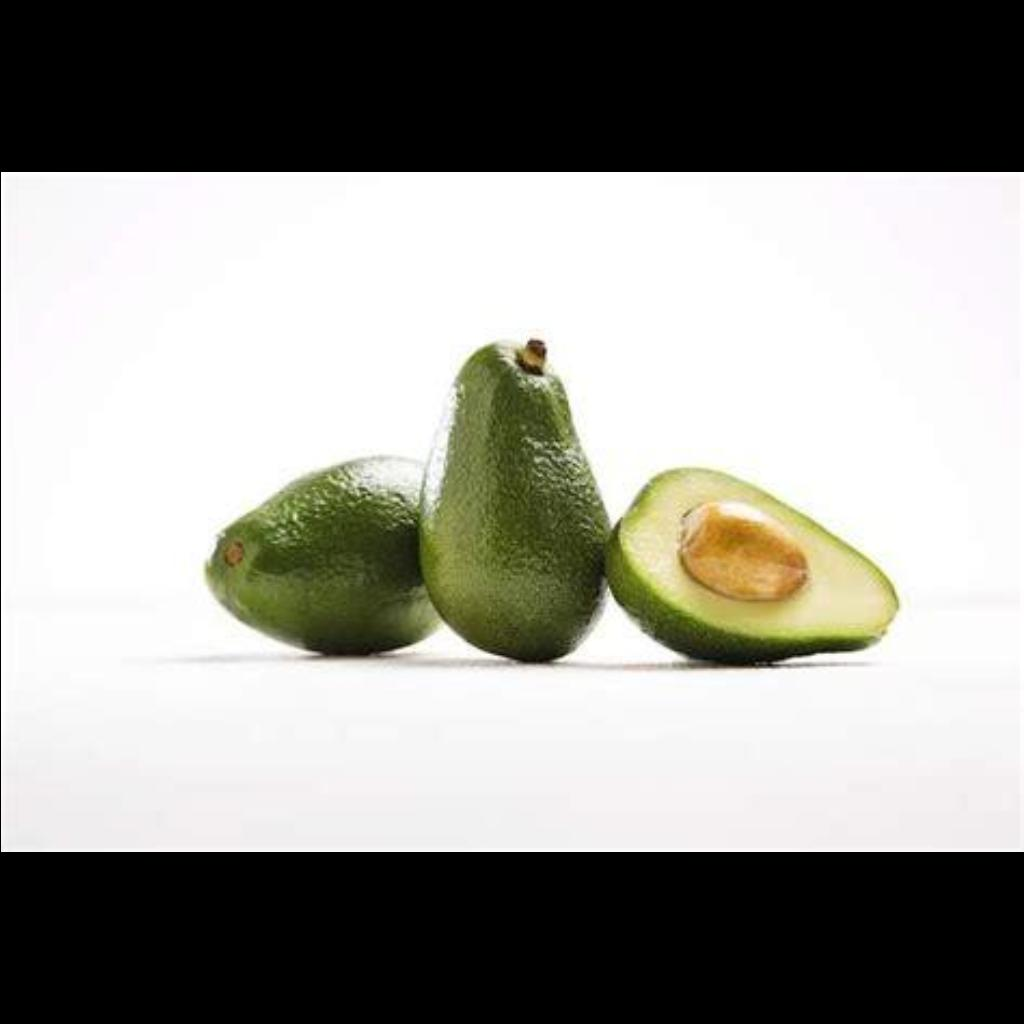fruto_sano: (113, 380, 465, 665), (411, 318, 629, 672), (598, 464, 909, 667)
